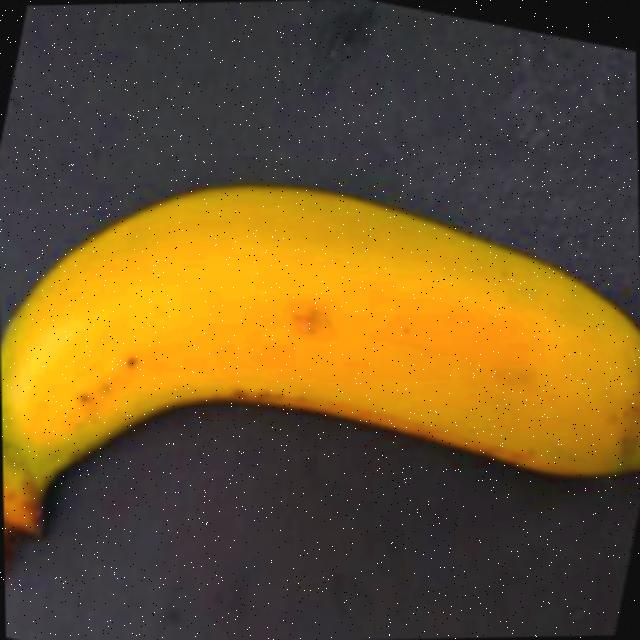Ripe: (0, 157, 640, 590)
